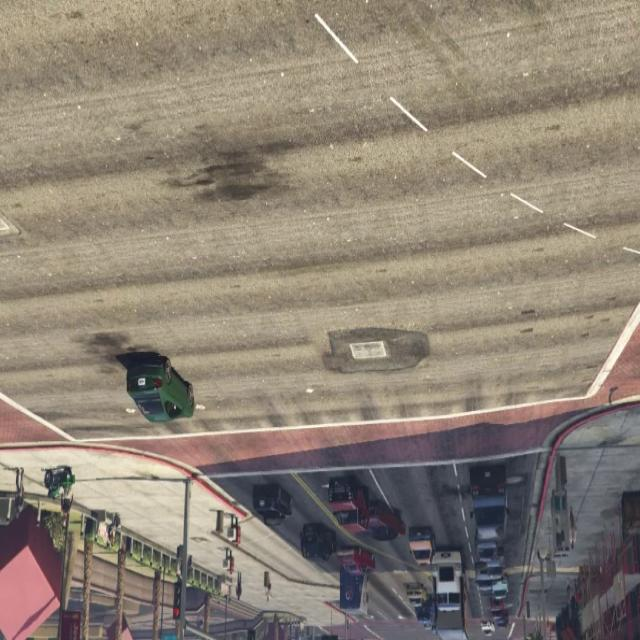Green-Signal: (315, 626, 343, 640)
Red-Signal: (165, 558, 188, 634), (236, 616, 262, 640), (315, 621, 343, 640)
